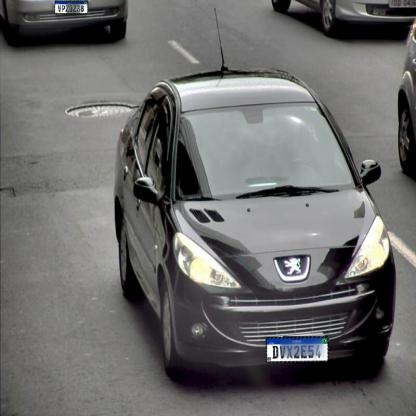PlacaM: (266, 336, 328, 363), (54, 1, 88, 14)
